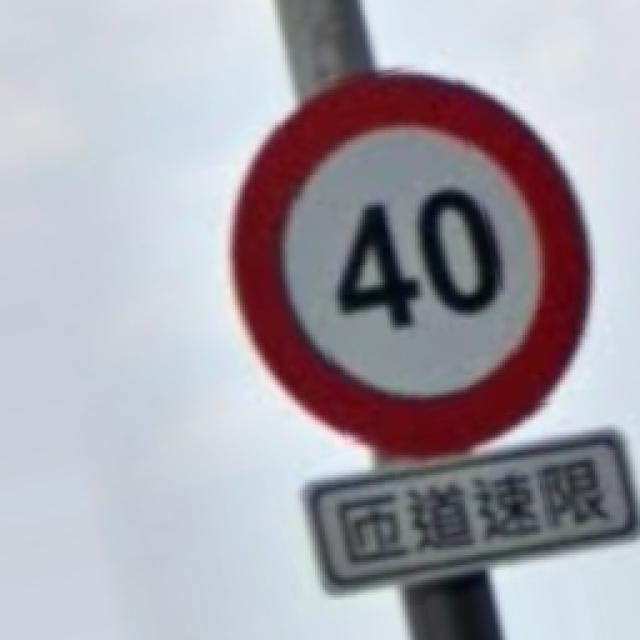Speed Limit -40-: (235, 72, 588, 452)
